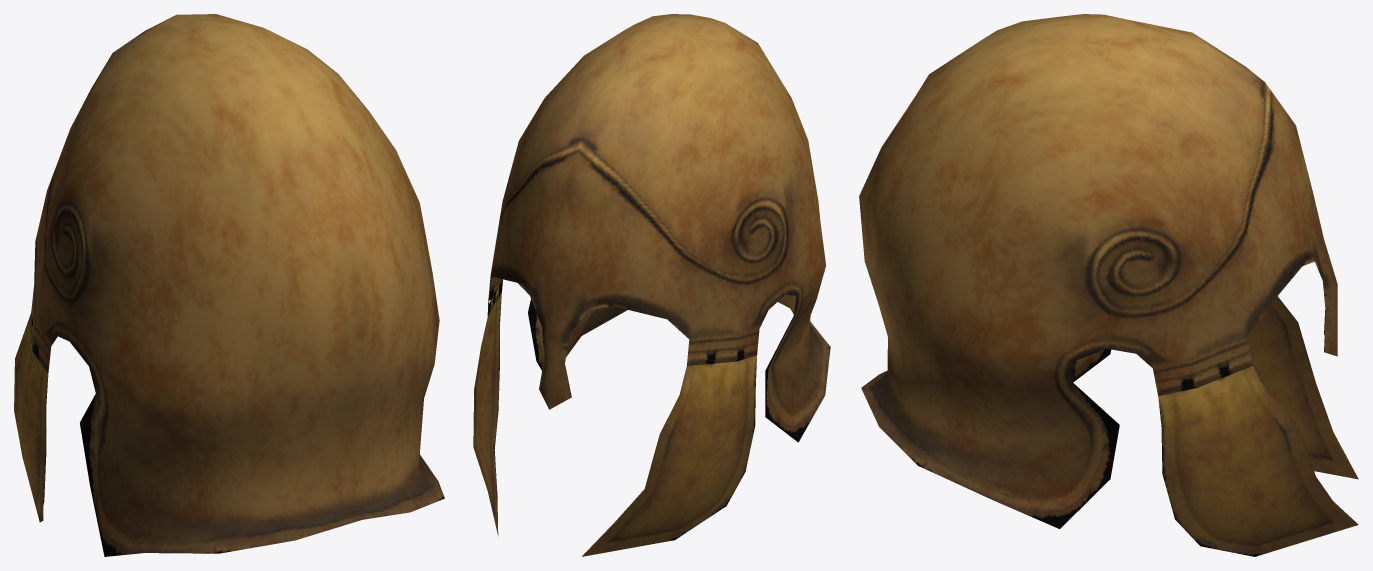
The model's file is helm_hele_chalcidean_b3.glb.
The picture shows the model from 3 angles, left to right: view 1: azimuth 30°, elevation 25°; view 2: azimuth 150°, elevation 25°; view 3: azimuth 270°, elevation 25°; orthographic projection. The views are drawn at different scales.
Visible parts, largest first — view 1: helm_hele_chalcidean_b3_part0, helm_hele_chalcidean_b3_part1; view 2: helm_hele_chalcidean_b3_part0, helm_hele_chalcidean_b3_part1; view 3: helm_hele_chalcidean_b3_part0, helm_hele_chalcidean_b3_part1.
Boxes of the visible parts, x1,y1,x2,y2 form: helm_hele_chalcidean_b3_part0: [31, 14, 444, 556]; helm_hele_chalcidean_b3_part1: [14, 313, 48, 522]; helm_hele_chalcidean_b3_part0: [487, 14, 830, 442]; helm_hele_chalcidean_b3_part1: [473, 280, 756, 556]; helm_hele_chalcidean_b3_part0: [859, 14, 1337, 528]; helm_hele_chalcidean_b3_part1: [1158, 296, 1358, 556].
Bounding box in the file's own units: 0.4345 × 0.6742 × 0.631.
2 materials, 2 textured.
